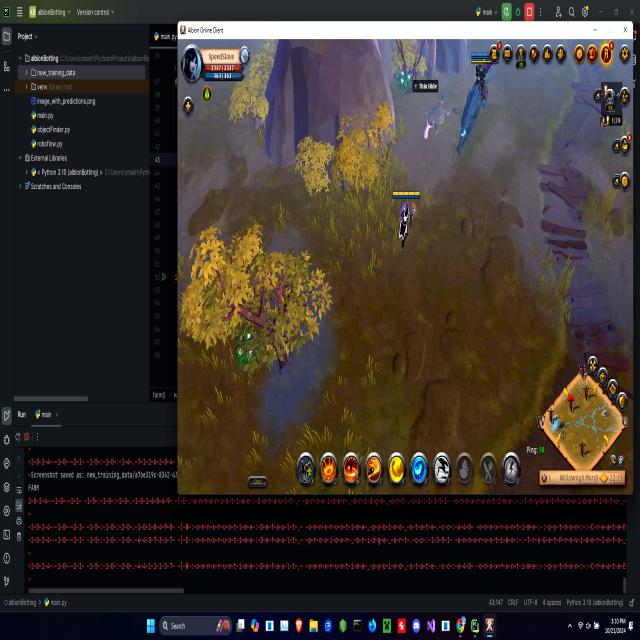hide: (233, 328, 266, 377), (392, 61, 420, 107)
red: (452, 49, 500, 166), (389, 184, 423, 256)
